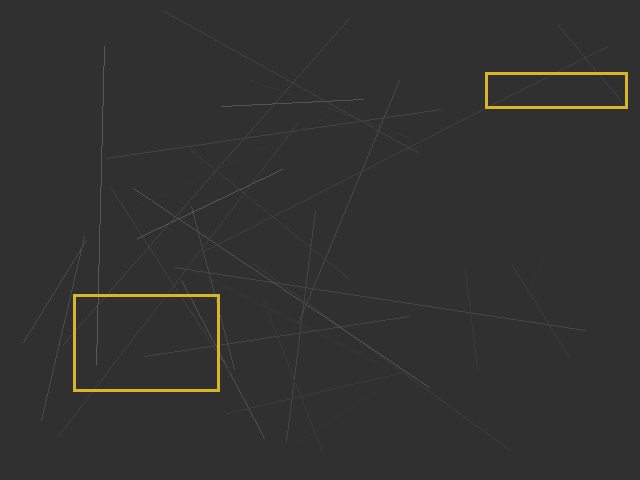D00: (73, 294, 219, 391)
D20: (485, 72, 627, 108)
